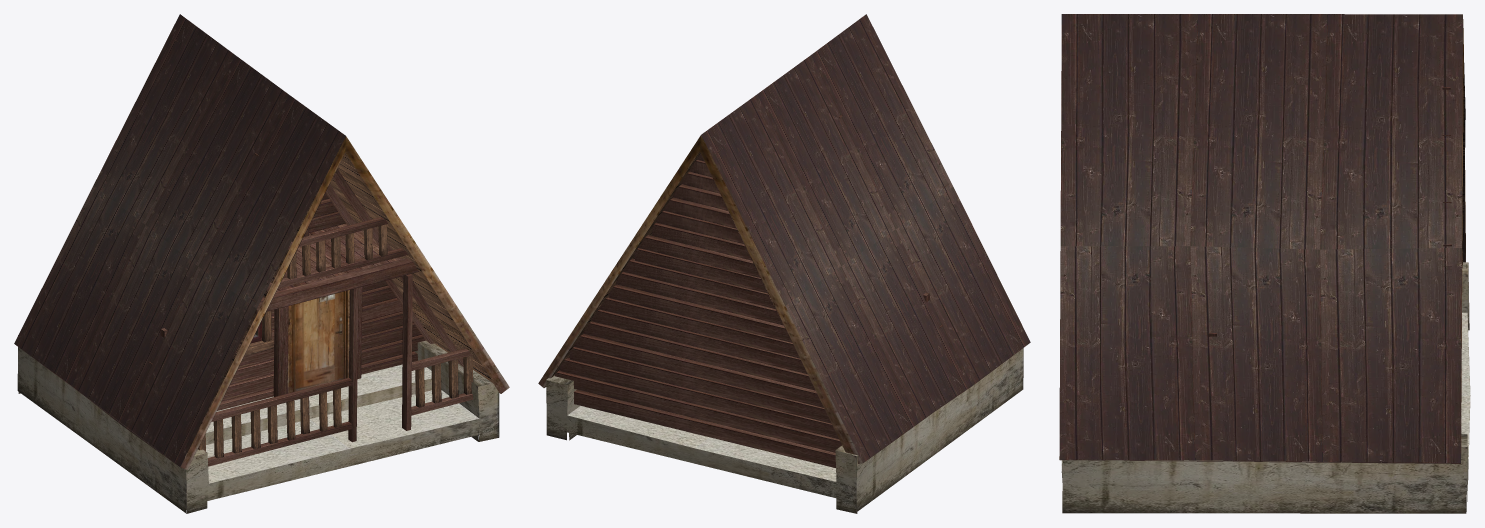
File: forest-cabin.glb
3 views of the same model, side by side, from view 1: azimuth 30°, elevation 25°; view 2: azimuth 150°, elevation 25°; view 3: azimuth 270°, elevation 25° (orthographic). The views are drawn at different scales.
Visible parts, largest first — view 1: Object_2; view 2: Object_2; view 3: Object_2.
Part boxes in pixels (<box>): Object_2: <box>14,14,509,513</box>; Object_2: <box>538,14,1030,513</box>; Object_2: <box>1059,14,1470,513</box>.
Bounding box in the file's own units: 2.08 × 2.06 × 1.86.
Materials: 1 (1 with a texture image).
